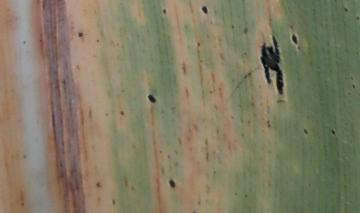tarspot: (259, 35, 284, 96), (146, 94, 157, 104), (291, 33, 299, 46), (168, 178, 176, 190), (201, 5, 208, 15), (302, 126, 309, 136), (195, 40, 202, 48), (275, 98, 285, 103), (78, 31, 85, 38), (242, 27, 249, 34), (110, 198, 117, 205), (331, 128, 337, 136), (266, 120, 272, 128), (95, 181, 102, 187), (351, 83, 357, 90), (120, 110, 125, 117), (162, 8, 167, 15), (343, 6, 348, 13), (355, 15, 360, 22), (289, 24, 294, 31), (230, 24, 236, 29)
